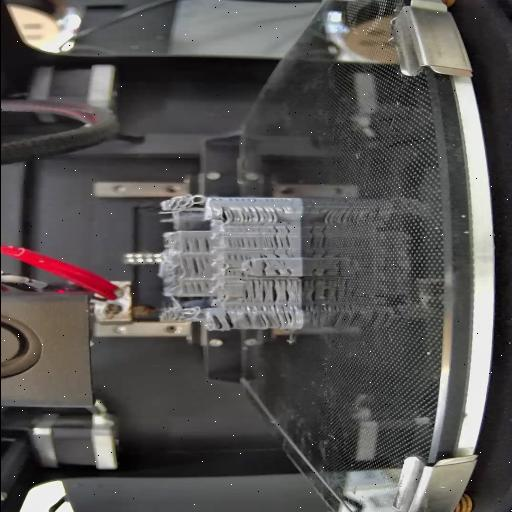cracks: (243, 305, 297, 327), (218, 206, 278, 224), (262, 278, 298, 304), (265, 225, 293, 249), (178, 256, 208, 277), (208, 310, 232, 330), (180, 238, 212, 252), (182, 279, 210, 294), (238, 279, 256, 302), (256, 250, 297, 258), (229, 238, 259, 248), (272, 268, 294, 276), (220, 270, 244, 277), (258, 259, 266, 277), (228, 254, 244, 260), (244, 259, 254, 268)
